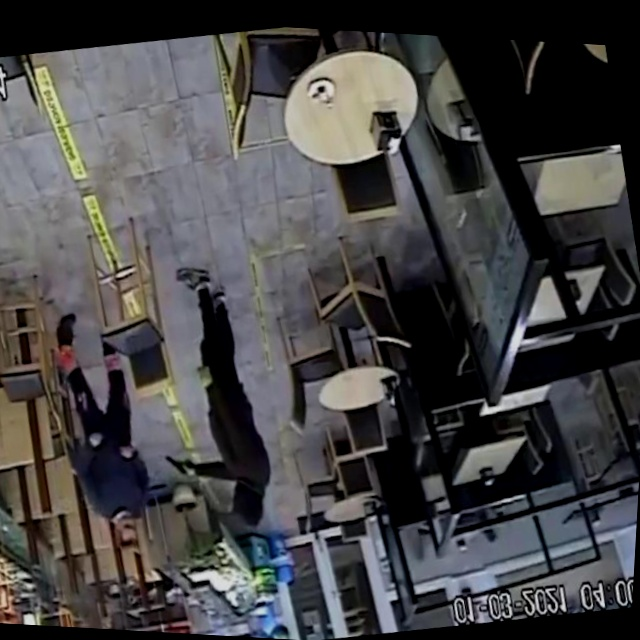gun: (152, 439, 205, 484)
